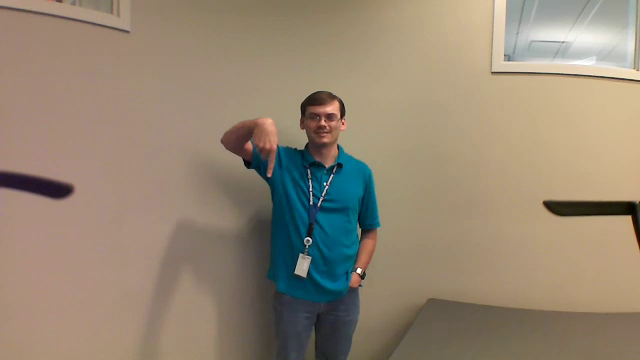down: (242, 103, 291, 190)
